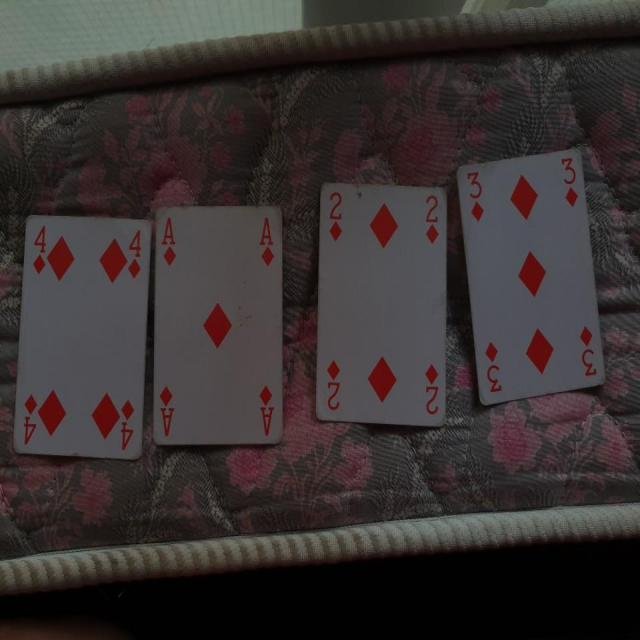2 Diamonds: (313, 182, 458, 435)
3 Diamonds: (456, 142, 608, 411)
4 Diamonds: (15, 206, 156, 464)
A Diamonds: (152, 198, 289, 446)
